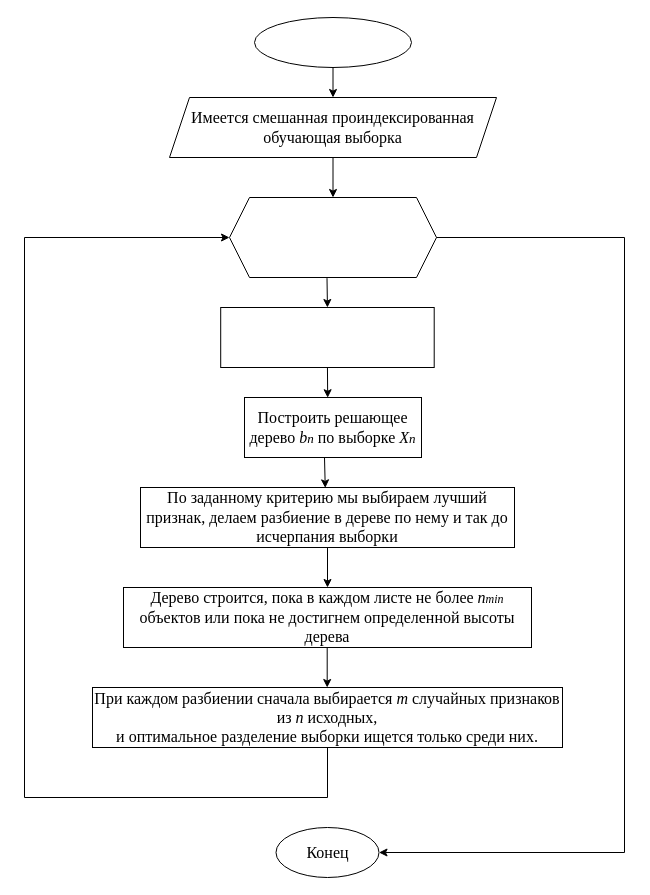
Image size: 650x895. Some labels were removed from this diagram. The shapes that lost their labels are listed below. From the top down, each one's centre as x and y in pixels, then its label:
the point at 333,42: Начало
the point at 332,237: Для каждого n = 1,..N ( N - кол-во деревьев)
the point at 327,337: Сгенерировать выборку X n с помощью бутстрэпа
